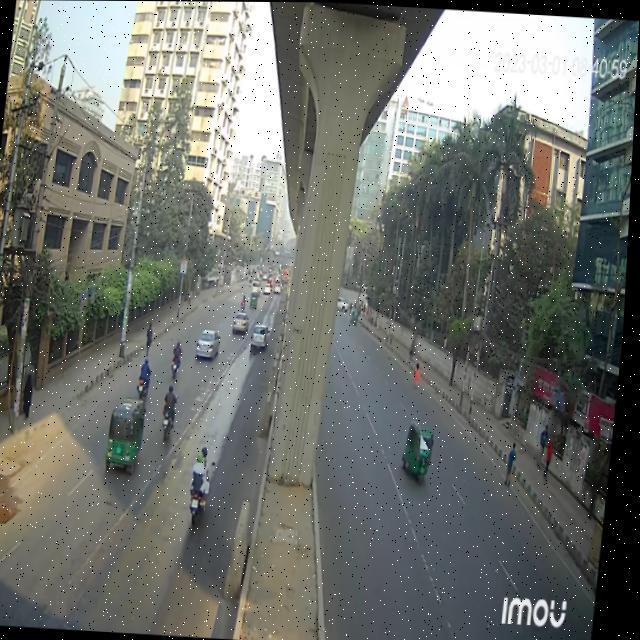cng: (104, 391, 153, 488), (405, 407, 446, 488)
